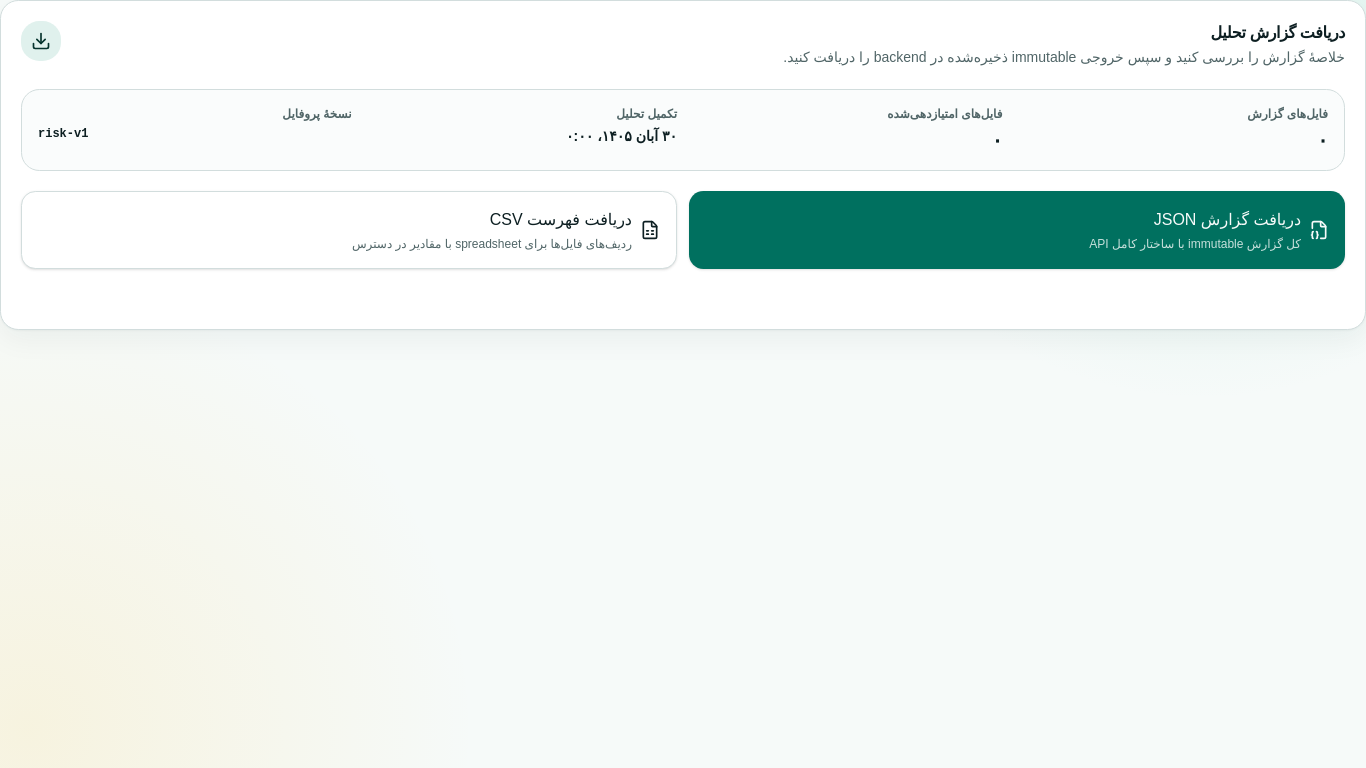
Test: ReportExportCard › shows a safe export error without leaving the report page
What coordinates should you click on to do the following:
click the button "دریافت فهرست CSV"
I would click on:
 (506, 220)
Its box is left=21, top=191, right=677, bottom=269.
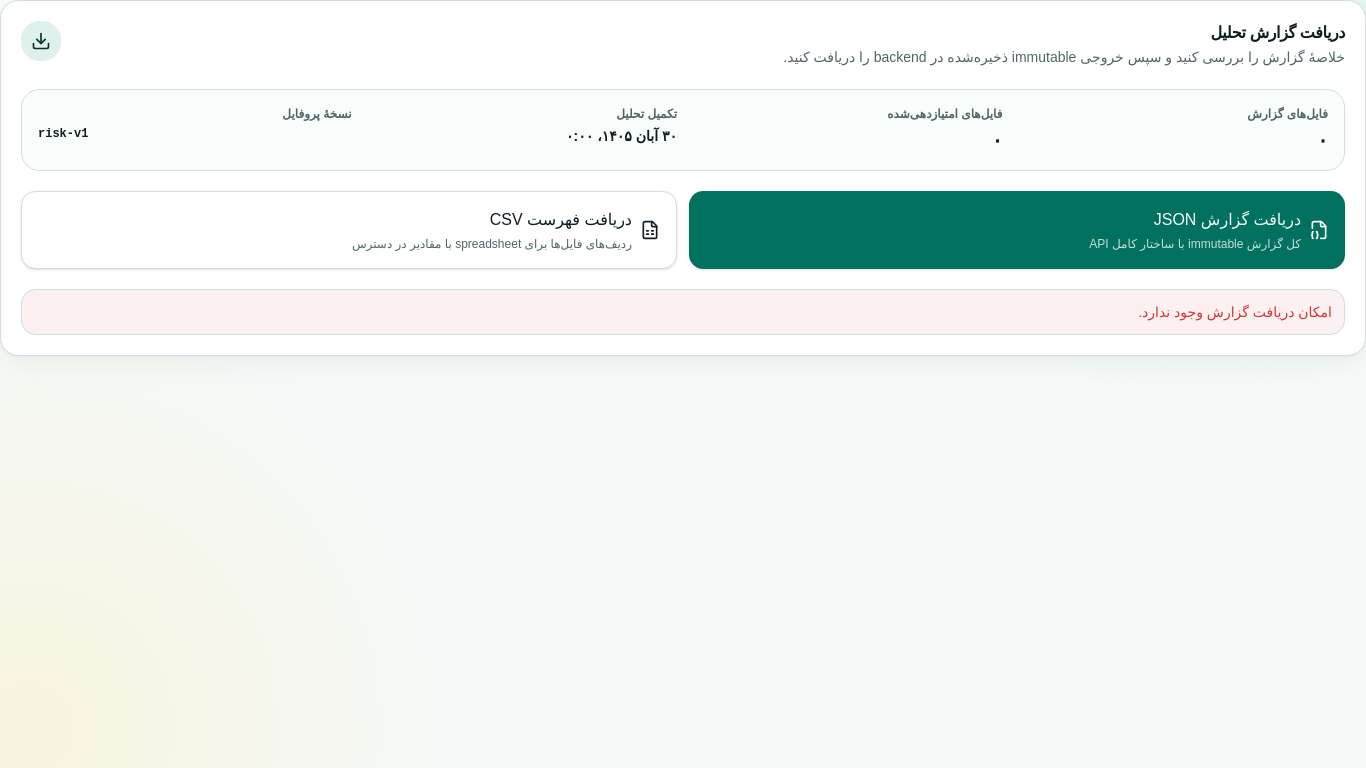
Expected: the message shows "امکان دریافت گزارش وجود ندارد", left=1138, top=304, right=1332, bottom=320
